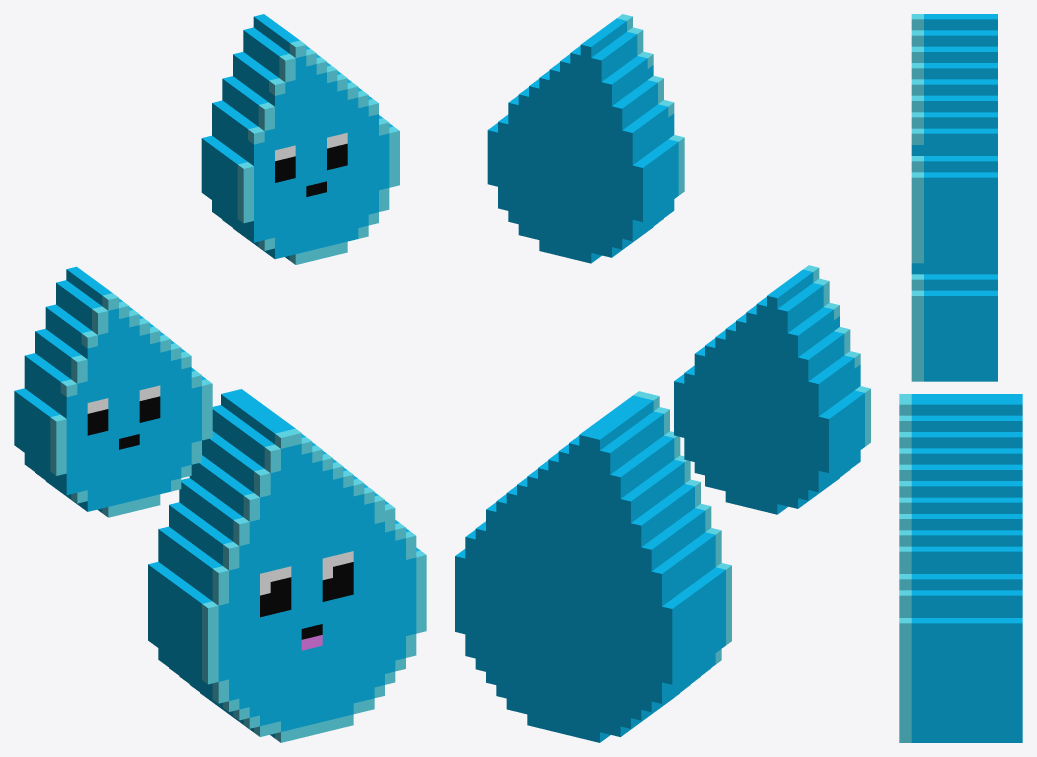
The model's file is Agua.obj.
The picture shows the model from 3 angles, left to right: view 1: azimuth 30°, elevation 25°; view 2: azimuth 150°, elevation 25°; view 3: azimuth 270°, elevation 25°; orthographic projection. The views are drawn at different scales.
Bounding box in the file's own units: 3.5 × 6.3 × 1.
